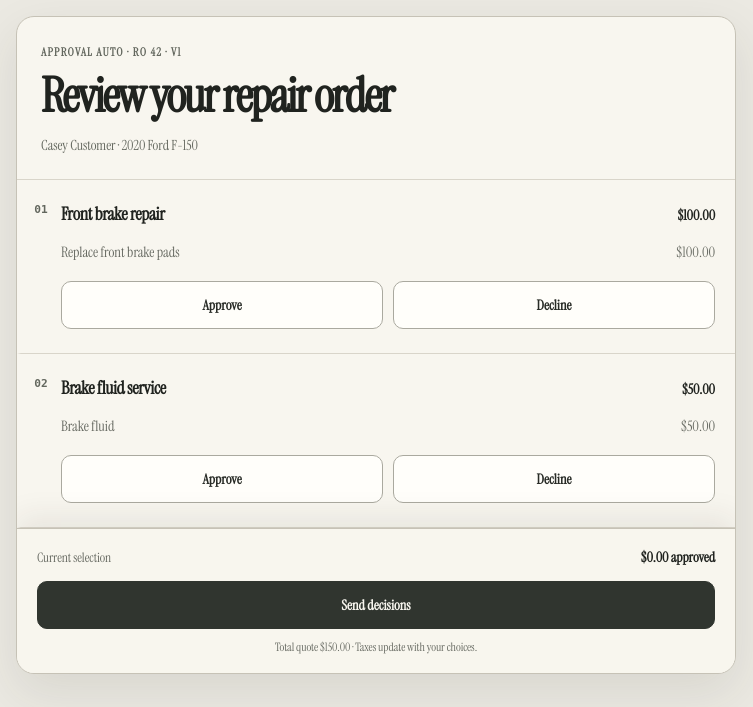
Test: customer approval surface › moves a definite 400 submission refusal to the safe unavailable state
Click the button with aria-label "Approve Front brake repair" at (222, 305), box [61,281,383,329]
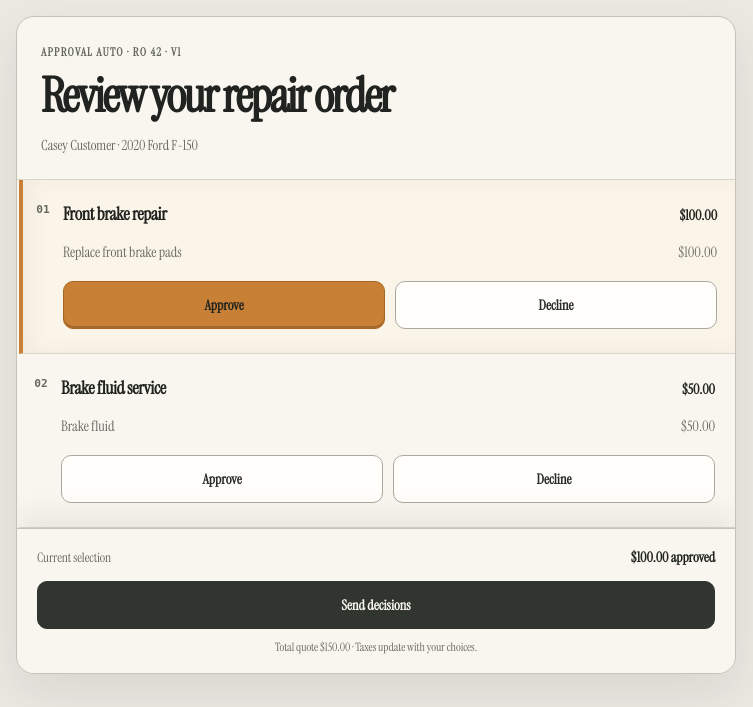
Click the button with aria-label "Decline Brake fluid service" at (554, 479), box [393,455,715,503]
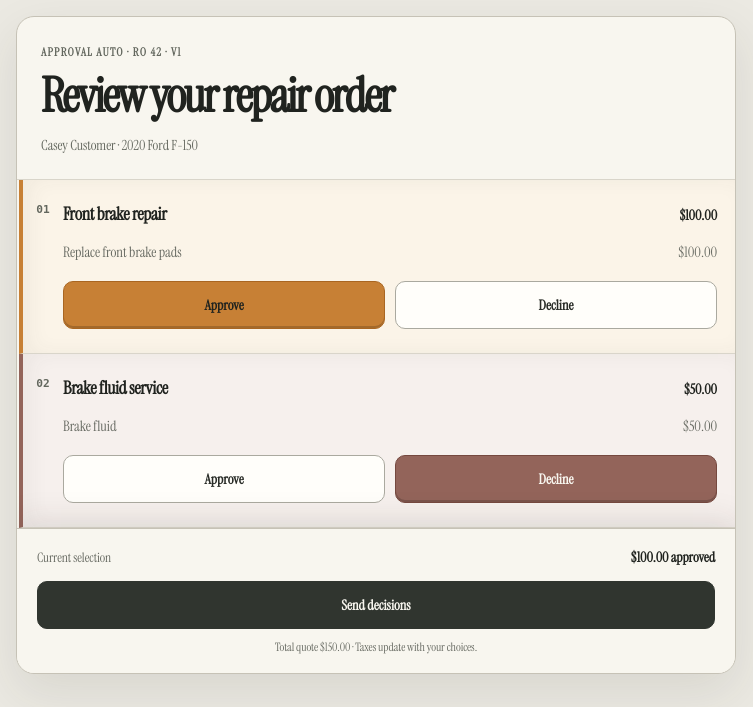
Click the button "Send decisions" at (376, 605), box [37,581,715,629]
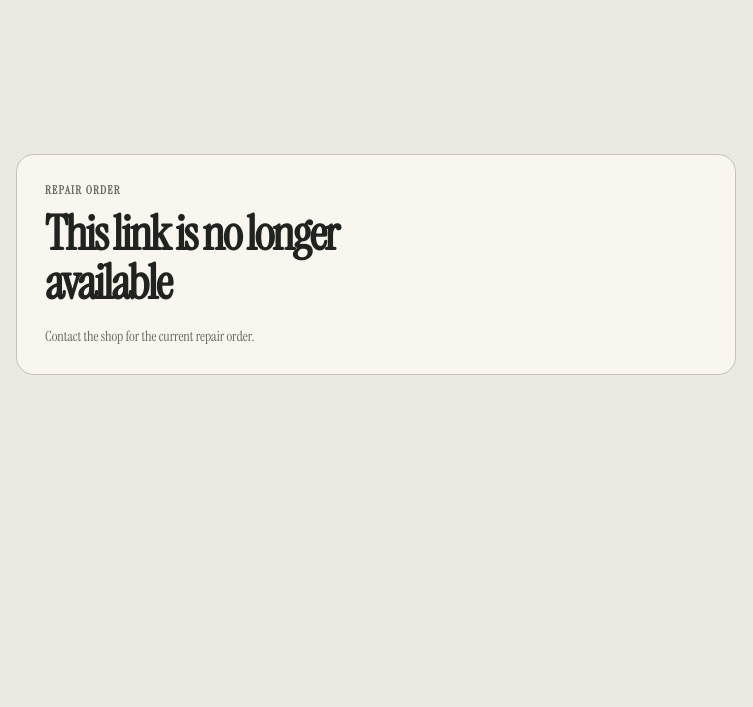
Expected: the heading "This link is no longer available" is shown, [45,202,337,314]
